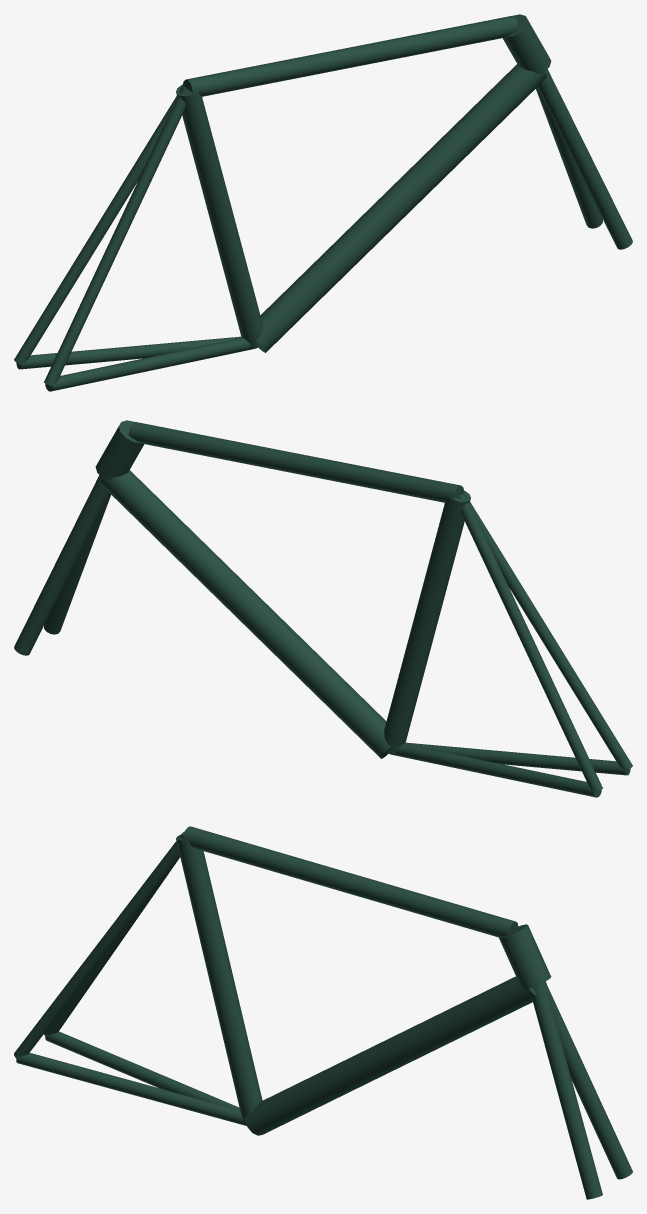
The model's file is frame-pursuit.glb.
3 renders of one model, top to bottom at view 1: azimuth 30°, elevation 25°; view 2: azimuth 150°, elevation 25°; view 3: azimuth 330°, elevation 25°, orthographic.
Parts seen in each view (by area): view 1: paint (×10); view 2: paint (×10); view 3: paint (×10).
Boxes of the visible parts, x1,y1,x2,y2 form: paint (×10): [14, 14, 632, 391]; paint (×10): [14, 420, 632, 797]; paint (×10): [14, 826, 632, 1199].
Size of the model in its own units: 1.01 by 0.4758 by 0.1155.
